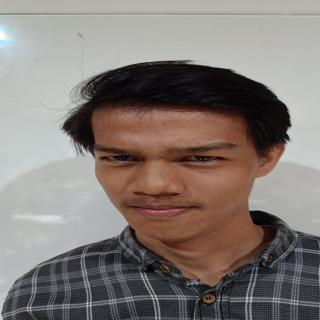Marah: (91, 90, 264, 250)
